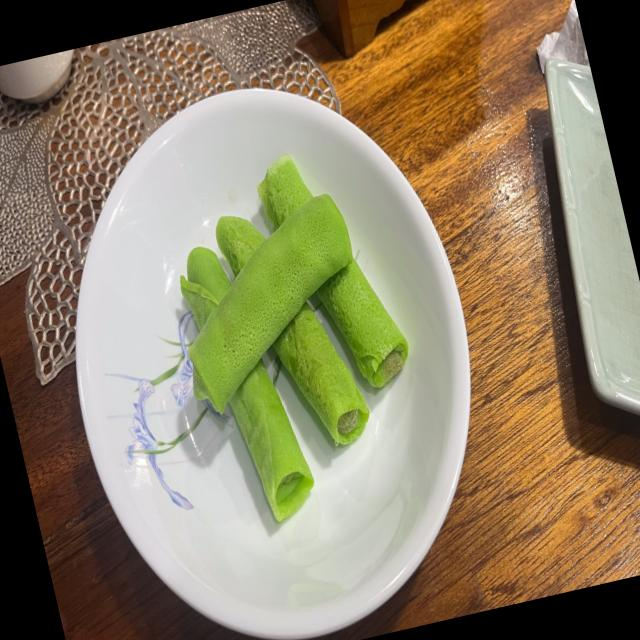Kuih-Ketayap: (188, 193, 353, 412), (273, 303, 369, 445), (230, 359, 313, 521), (317, 260, 408, 387), (180, 247, 230, 330), (257, 154, 312, 227), (215, 215, 264, 276)
